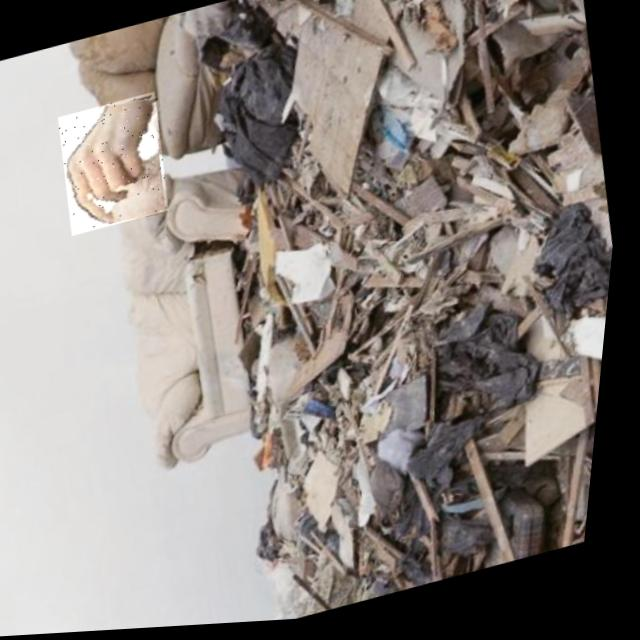Person in Rubble: (51, 91, 181, 237)
